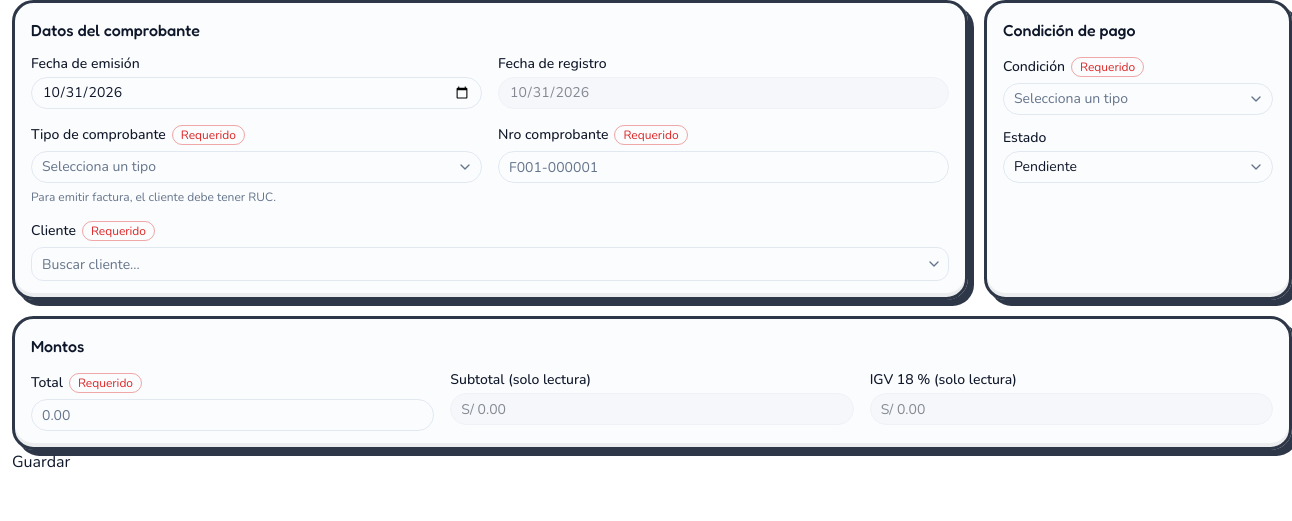
Test: VoucherForm — venta: tipo de comprobante según el documento › precarga Factura al elegir un cliente con RUC
The width and height of the screenshot is (1292, 521).
What coordinates should you click on to do the following:
click the dropdown with placeholder "Buscar cliente..."
I would click on:
 (476, 264)
Its box is [32, 248, 920, 280].
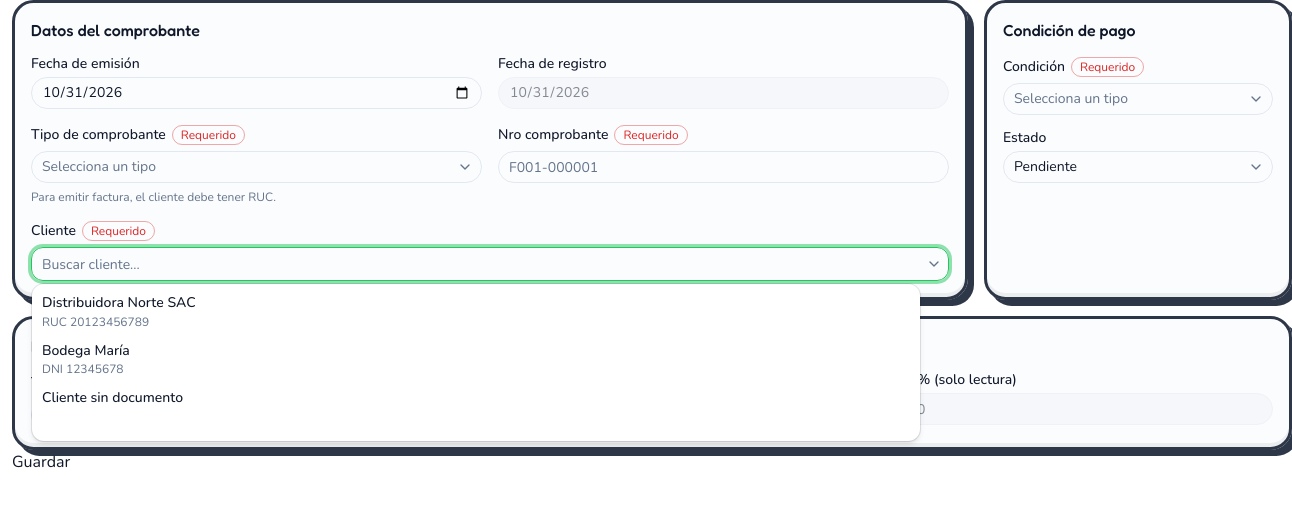
What coordinates should you click on to do the following:
click the text "Distribuidora Norte SAC"
I would click on:
 (119, 302)
Its box is [42, 293, 196, 312].
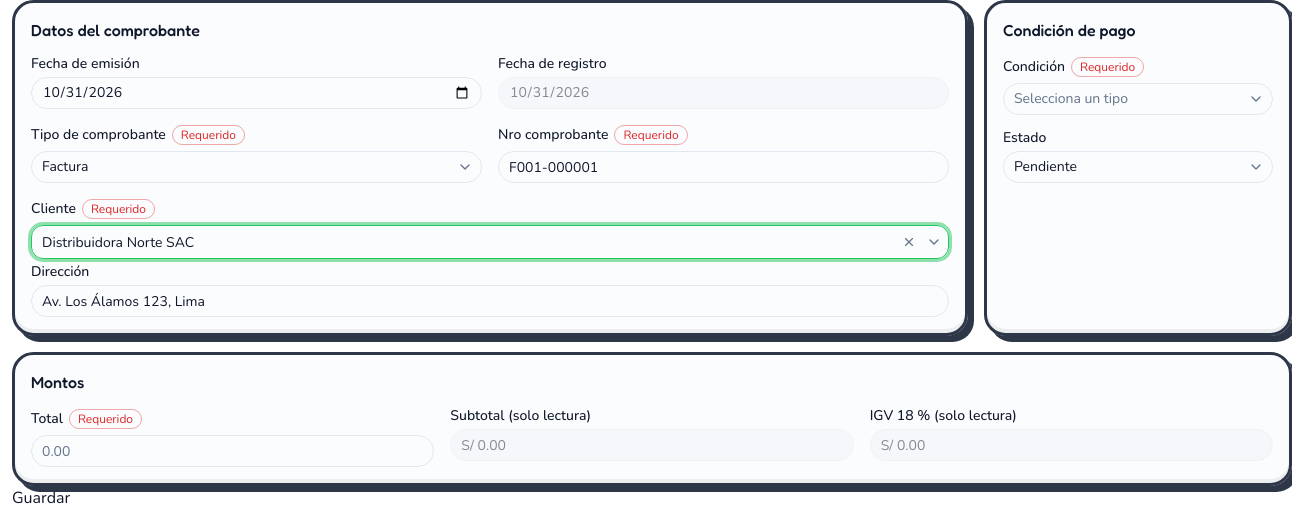
Now the text "Factura" is shown, box [42, 157, 88, 176]
Now the text "Para emitir factura, el cliente debe tener RUC." is gone
